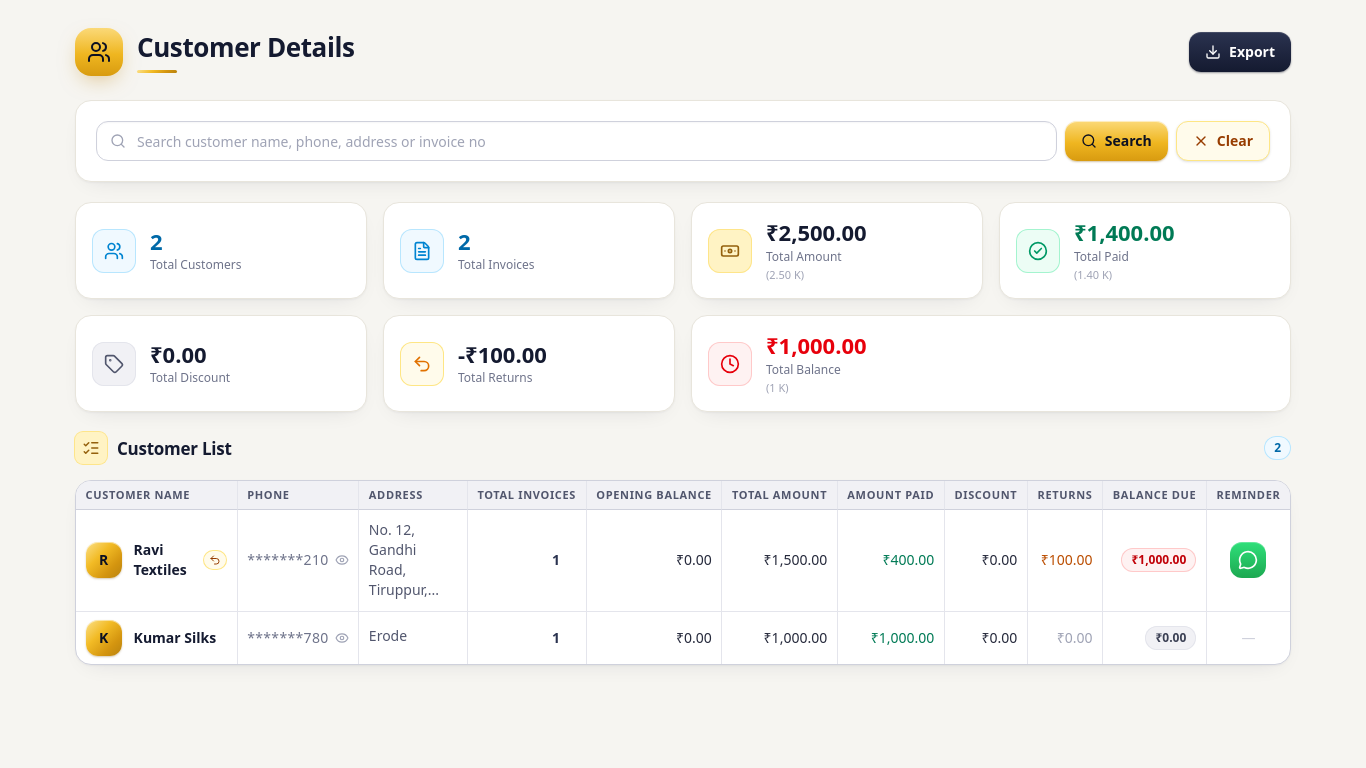
Test case: Customer Details page (shared party layout) › the WhatsApp row action opens the reminder dialog for that customer
The width and height of the screenshot is (1366, 768).
Expected: the heading "Customer List" is shown, [75,432,232,464]
Click the button named "Send WhatsApp payment reminder to Ravi Textiles" at (1248, 560), box [1230,542,1266,578]
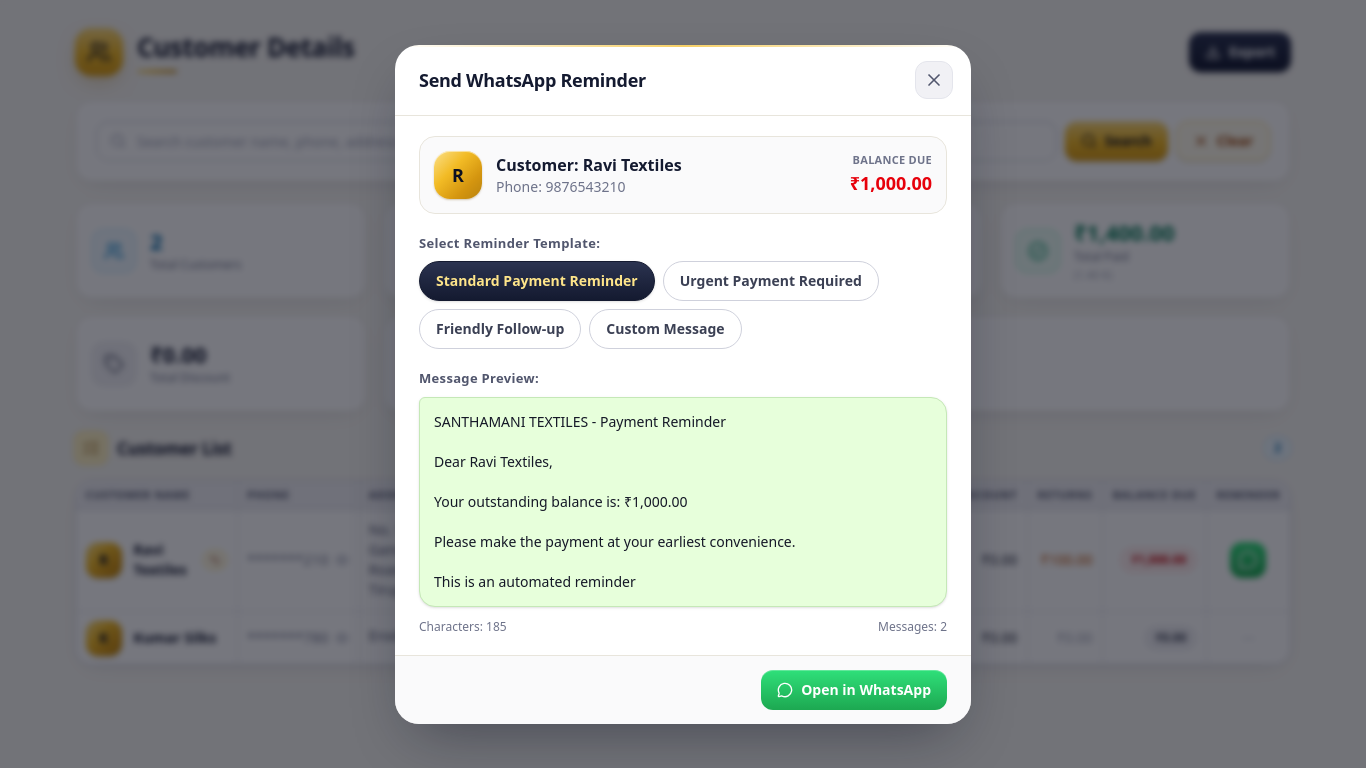
Result: the text "Customer: Ravi Textiles" is shown at [496,154,682,176]
